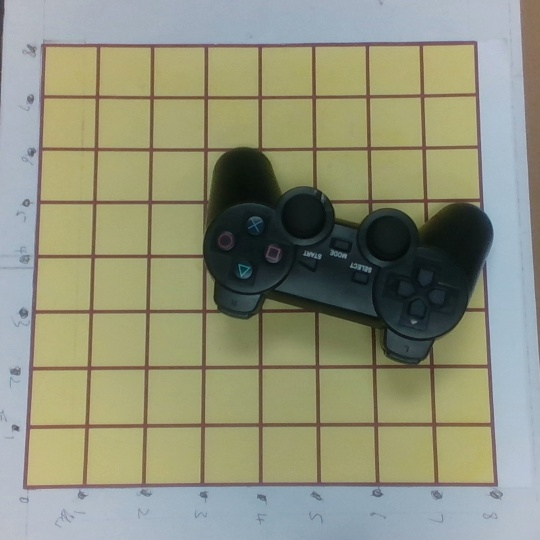remote: (205, 150, 495, 365)
